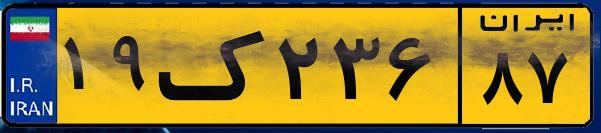1: (57, 26, 110, 100)
2: (270, 28, 330, 110)
3: (330, 28, 385, 110)
6: (385, 28, 445, 110)
7: (525, 38, 570, 115)
8: (475, 38, 525, 113)
9: (110, 28, 158, 98)
ک: (158, 12, 270, 120)
